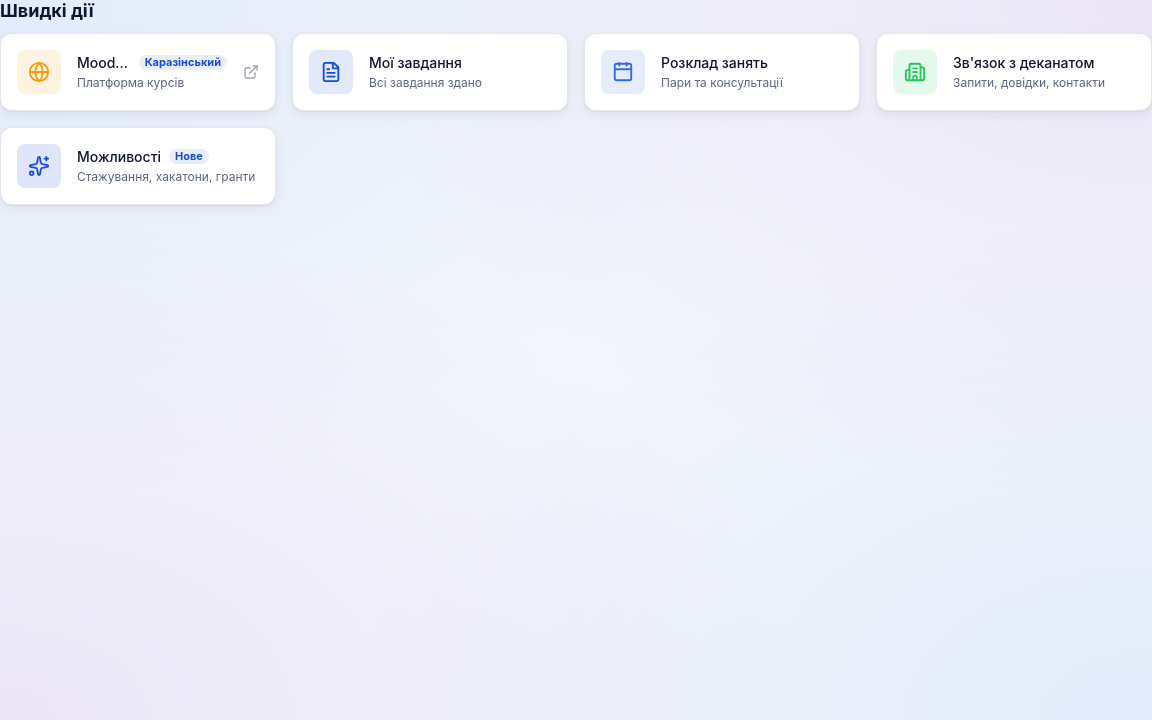
Test: QuickActions component › should open dean contact modal when dean card is clicked and close it on dismiss
Step 1. Click the button "Зв'язок з деканатом Запити, довідки, контакти" → (1014, 72), box [876,33,1151,111]
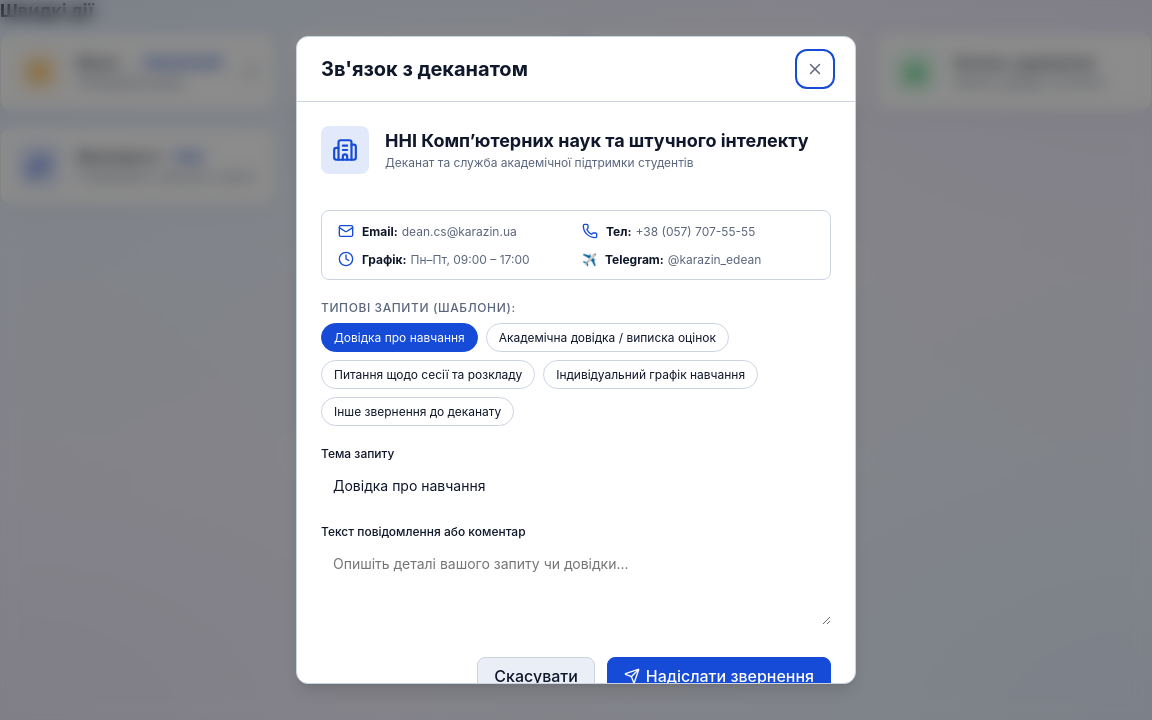
Expected: the dialog "Зв'язок з деканатом" is shown, [296,36,856,684]
Step 2. Click the button named "Закрити" → (815, 69), box [799,53,831,85]
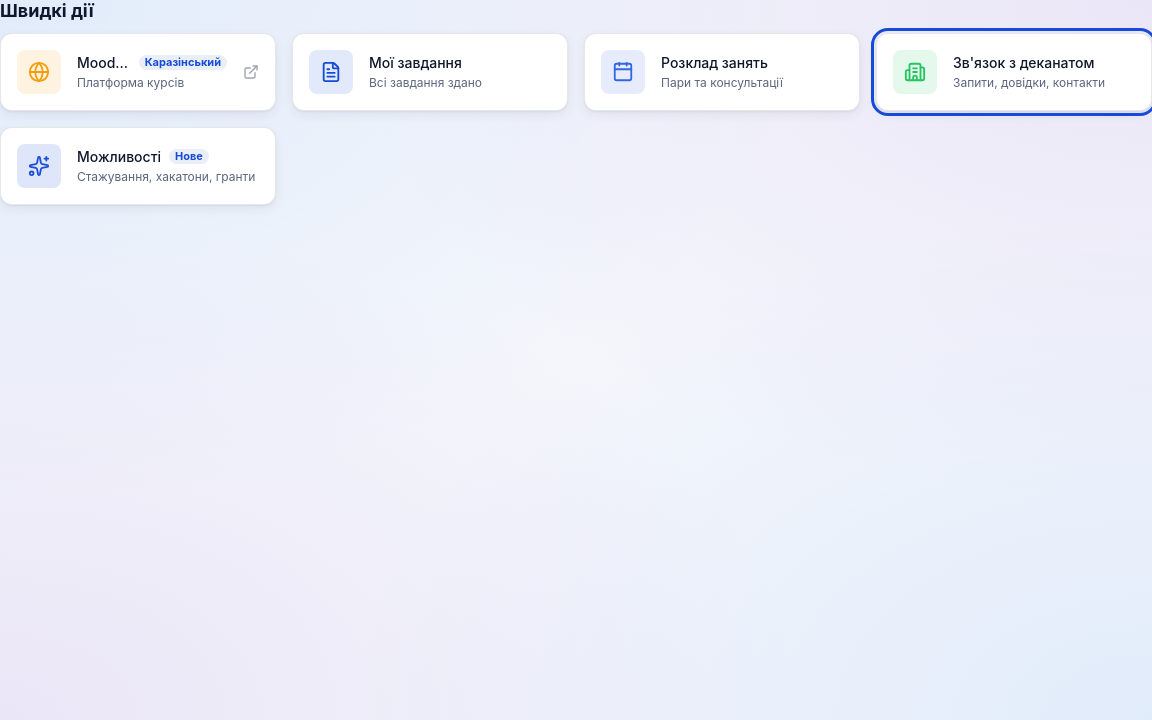
Expected: the dialog is gone
